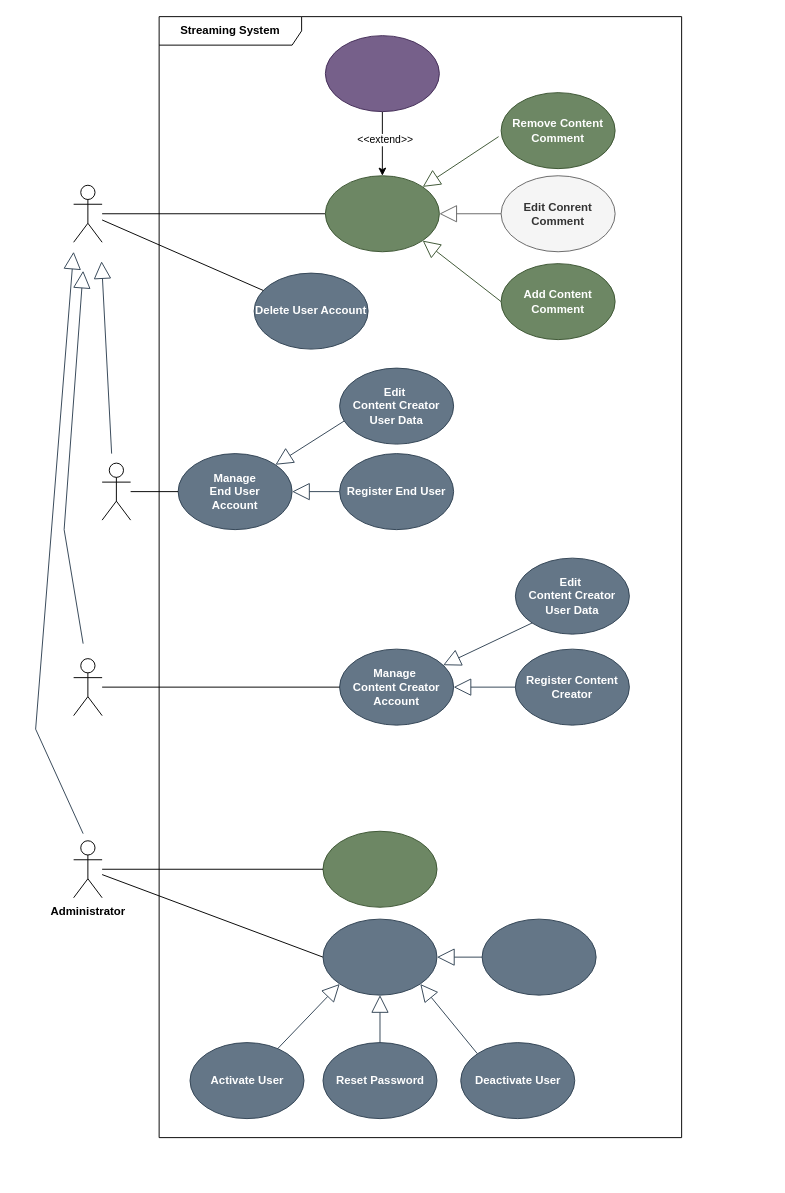
Image size: 785x1193. Some labels were removed from this diagram. The centre of each missing label's shape, as x and y in pixels:
Content Creator: (87,687)
Create Another Administrator Account: (538,956)
End User: (116,491)
Manage Another Users Accounts: (379,956)
Manage Content Comments: (381,213)
Remove Another Users Comments: (379,868)
Search Content: (381,73)
User: (87,213)
